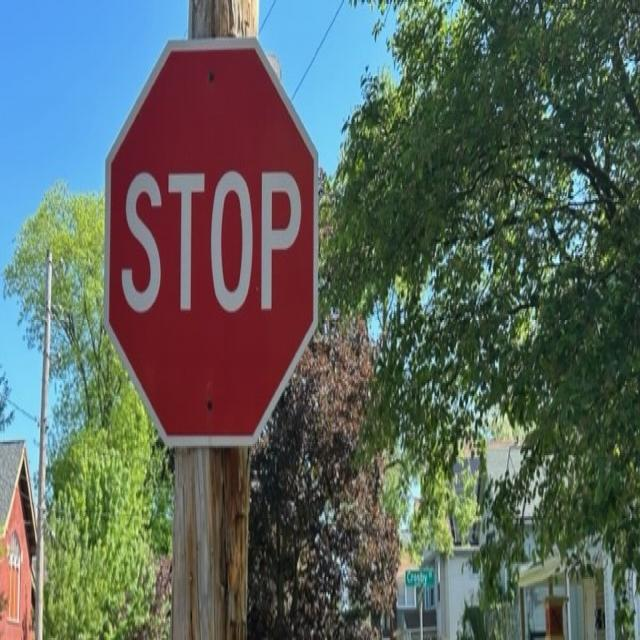stop: (104, 31, 320, 452)
